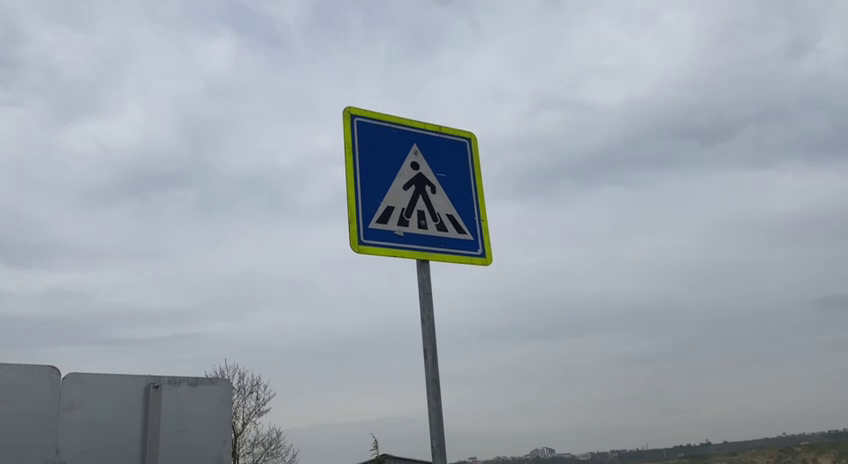pedestrianCrossing: (340, 103, 497, 269)
